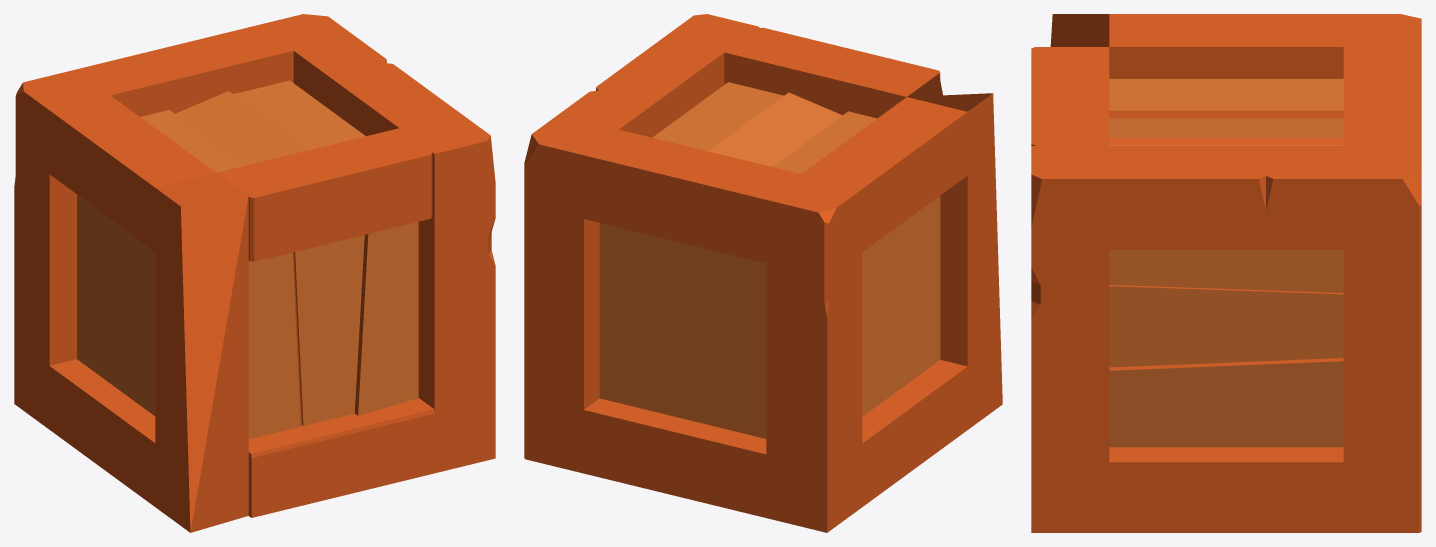
Rendered from square.wood.v3.fbx.
3 views of the same model, side by side, from view 1: azimuth 30°, elevation 25°; view 2: azimuth 150°, elevation 25°; view 3: azimuth 270°, elevation 25° (orthographic). The views are drawn at different scales.
Parts seen in each view (by area): view 1: Cube; view 2: Cube; view 3: Cube.
Part boxes in pixels (x1,y1,x2,y2): Cube: [14, 14, 495, 532]; Cube: [524, 14, 1002, 532]; Cube: [1031, 14, 1421, 532].
Bounding box in the file's own units: 100 × 100 × 100.
